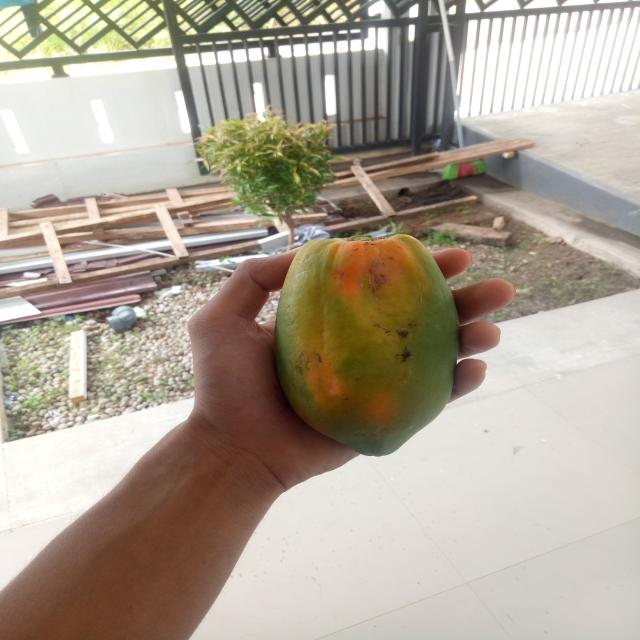Pepaya rippen: (258, 228, 455, 469)
